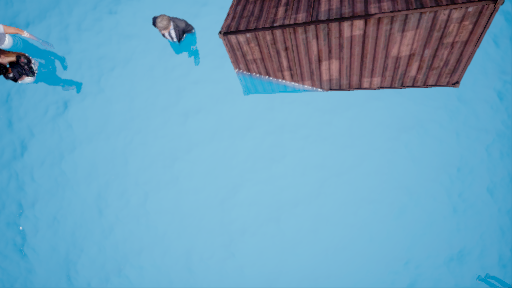person: (1, 22, 83, 106), (149, 8, 207, 72)
